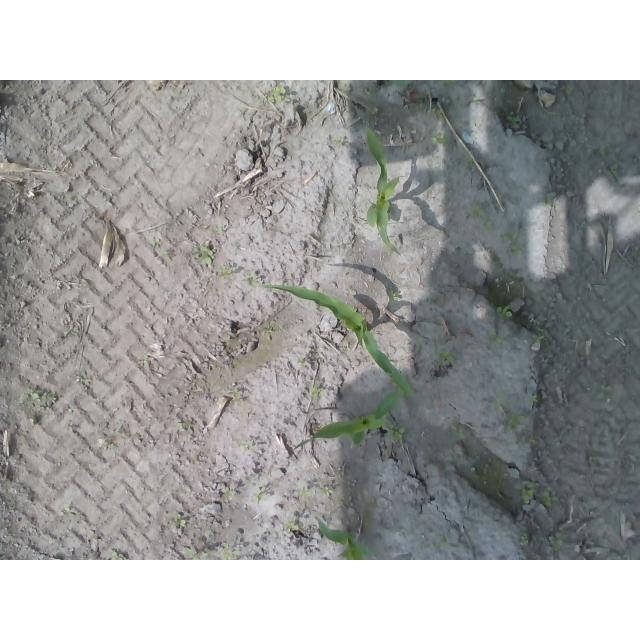Maize: (259, 281, 417, 404), (293, 391, 407, 450), (367, 127, 406, 258), (316, 517, 377, 560)
Weeds: (495, 401, 524, 431), (521, 484, 559, 506), (29, 392, 55, 409), (505, 233, 524, 256), (194, 246, 214, 266), (177, 421, 192, 443), (223, 544, 241, 561), (268, 84, 284, 102), (242, 273, 262, 287), (434, 351, 459, 362), (390, 427, 407, 443), (495, 305, 513, 319), (506, 113, 521, 128), (450, 425, 466, 439), (489, 329, 503, 343), (182, 548, 198, 560), (310, 387, 327, 398), (261, 323, 278, 333), (432, 106, 444, 120), (174, 513, 186, 527), (319, 486, 333, 498), (112, 550, 128, 560), (552, 535, 563, 549), (532, 333, 545, 344), (387, 290, 398, 303), (219, 266, 231, 277), (439, 81, 457, 88), (285, 522, 299, 531), (151, 237, 161, 249), (471, 207, 483, 217), (433, 135, 445, 145), (223, 490, 236, 499), (519, 535, 530, 545), (242, 440, 254, 449), (360, 88, 373, 96), (255, 489, 262, 503), (299, 486, 309, 495)
